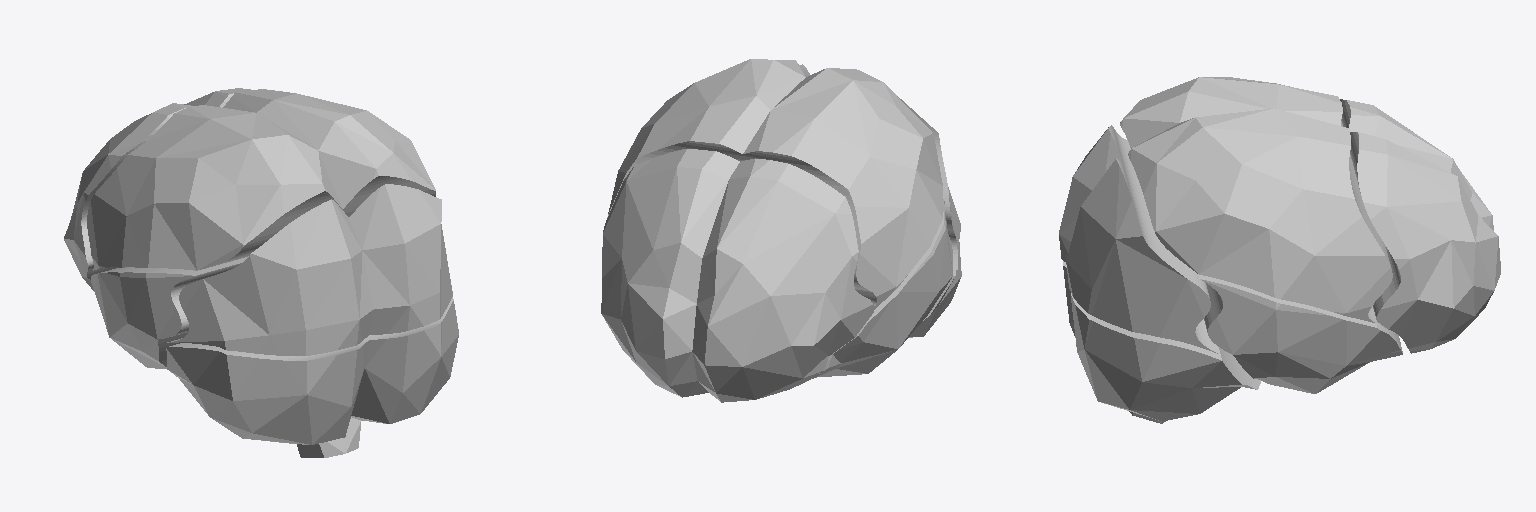
The model's file is brain.obj.
3 renders of one model, left to right at view 1: azimuth 30°, elevation 25°; view 2: azimuth 150°, elevation 25°; view 3: azimuth 270°, elevation 25°, orthographic.
Visible parts, largest first — view 1: Assem1.002, Assem1.003, Assem1.004, Assem1.005, Assem1.001; view 2: Assem1.001, Assem1.002, Assem1.005, Assem1.003, Assem1.004; view 3: Assem1.002, Assem1.001, Assem1.003, Assem1.005, Assem1.004.
Part boxes in pixels (left/top/right/bottom): Assem1.002: left=87, top=89, right=435, bottom=270; Assem1.003: left=167, top=184, right=452, bottom=355; Assem1.004: left=166, top=297, right=458, bottom=457; Assem1.005: left=91, top=256, right=248, bottom=368; Assem1.001: left=64, top=88, right=250, bottom=290; Assem1.001: left=601, top=149, right=874, bottom=402; Assem1.002: left=607, top=59, right=942, bottom=308; Assem1.005: left=806, top=191, right=952, bottom=381; Assem1.003: left=799, top=64, right=960, bottom=269; Assem1.004: left=909, top=242, right=961, bottom=337; Assem1.002: left=1120, top=77, right=1392, bottom=323; Assem1.001: left=1340, top=99, right=1500, bottom=353; Assem1.003: left=1059, top=125, right=1220, bottom=354; Assem1.005: left=1198, top=274, right=1402, bottom=393; Assem1.004: left=1063, top=261, right=1260, bottom=423.
Bounding box in the file's own units: 5.2 × 5.21 × 6.62.